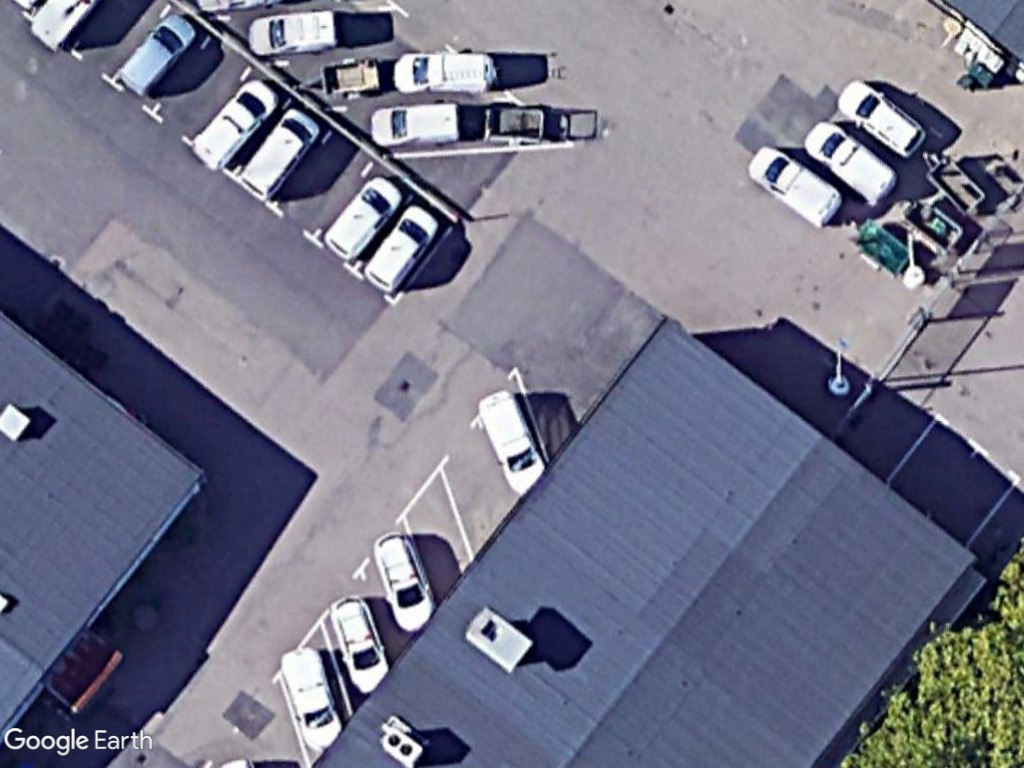car: (276, 639, 348, 753), (358, 202, 446, 295), (835, 75, 930, 160), (320, 172, 408, 263), (370, 527, 440, 639), (330, 588, 392, 694), (391, 48, 500, 101), (368, 98, 466, 150)
van: (804, 117, 900, 212), (745, 142, 845, 232), (233, 104, 322, 200), (190, 76, 278, 173), (115, 8, 202, 99), (475, 384, 547, 493), (245, 6, 348, 61)
